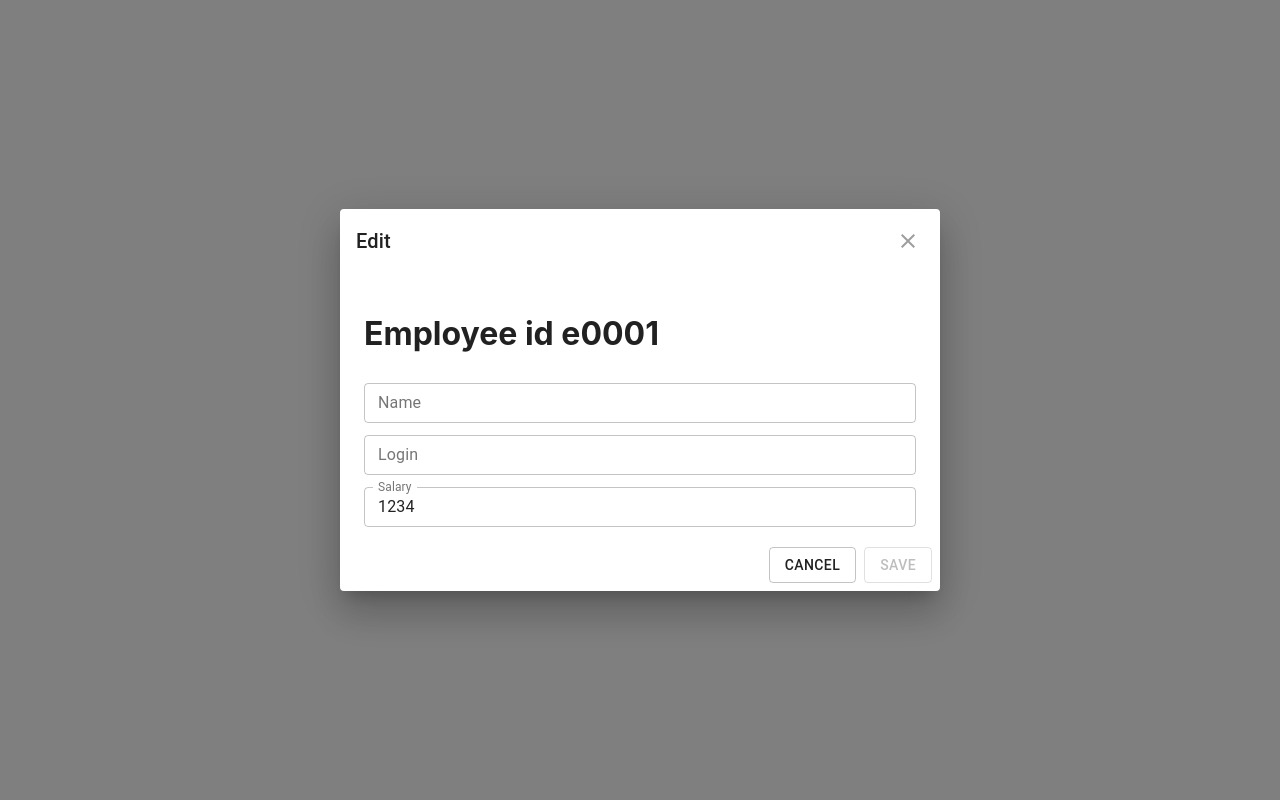
Test case: Employee Edit cancel all
Type "Ajay Arul" into the field with id "full_name" at (640, 403), box top-left (364, 383), bottom-right (916, 423)
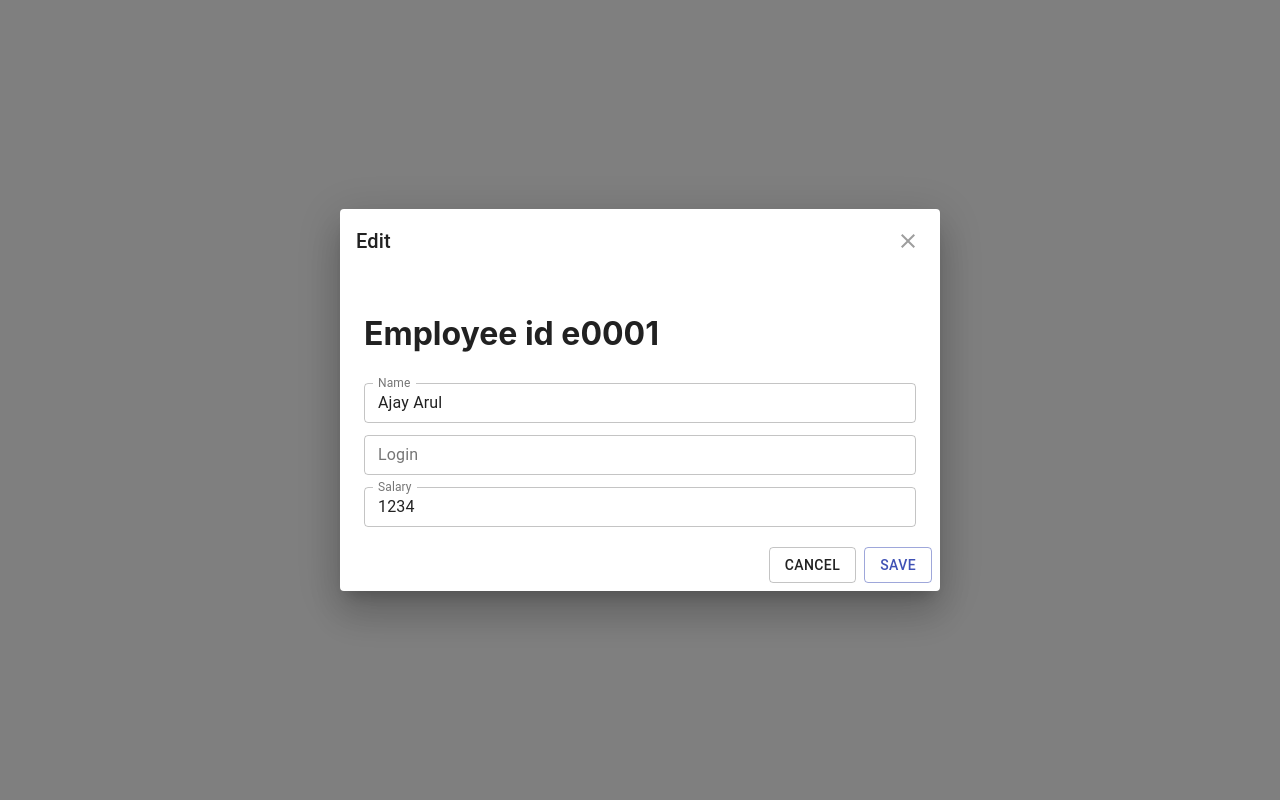
Type "Aj" into the field with id "login_id" at (640, 455), box top-left (364, 435), bottom-right (916, 475)
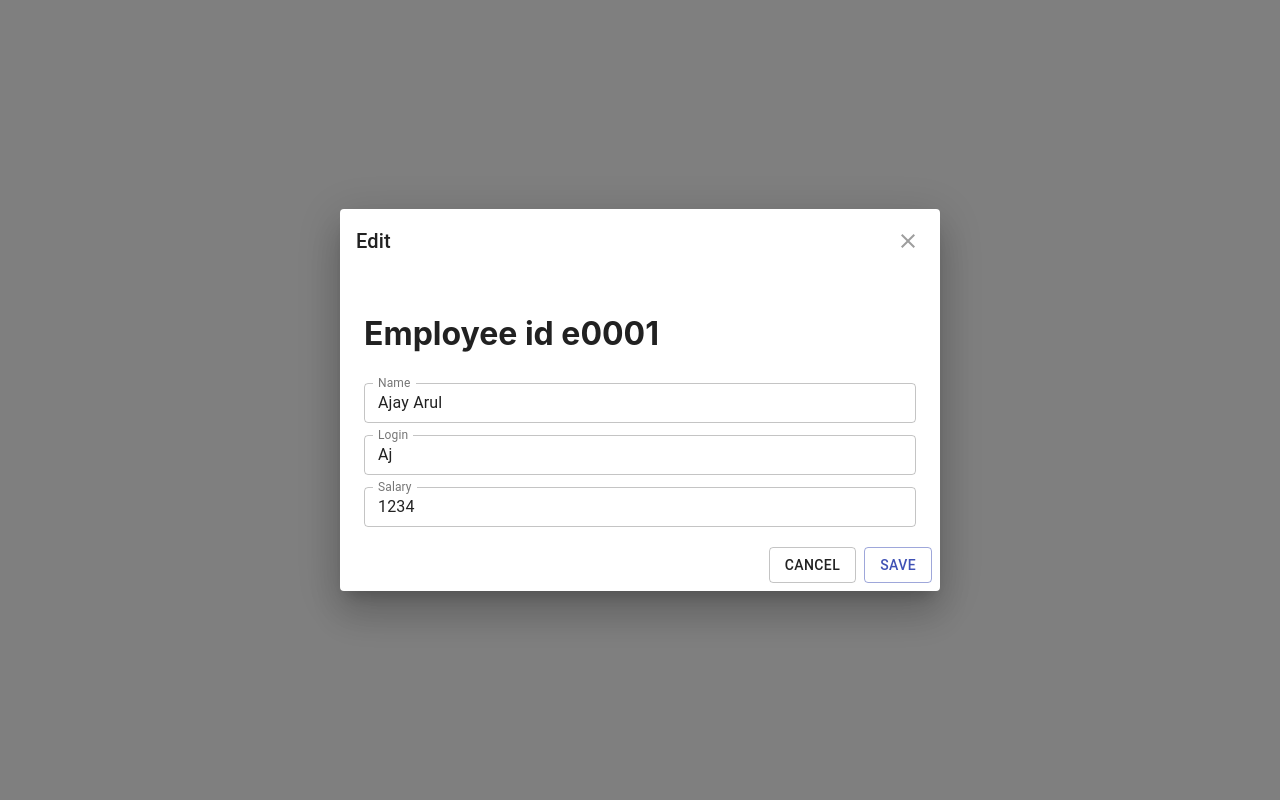
Replace the text in the number field with id "salary" with "800000" at (640, 507), box top-left (364, 487), bottom-right (916, 527)
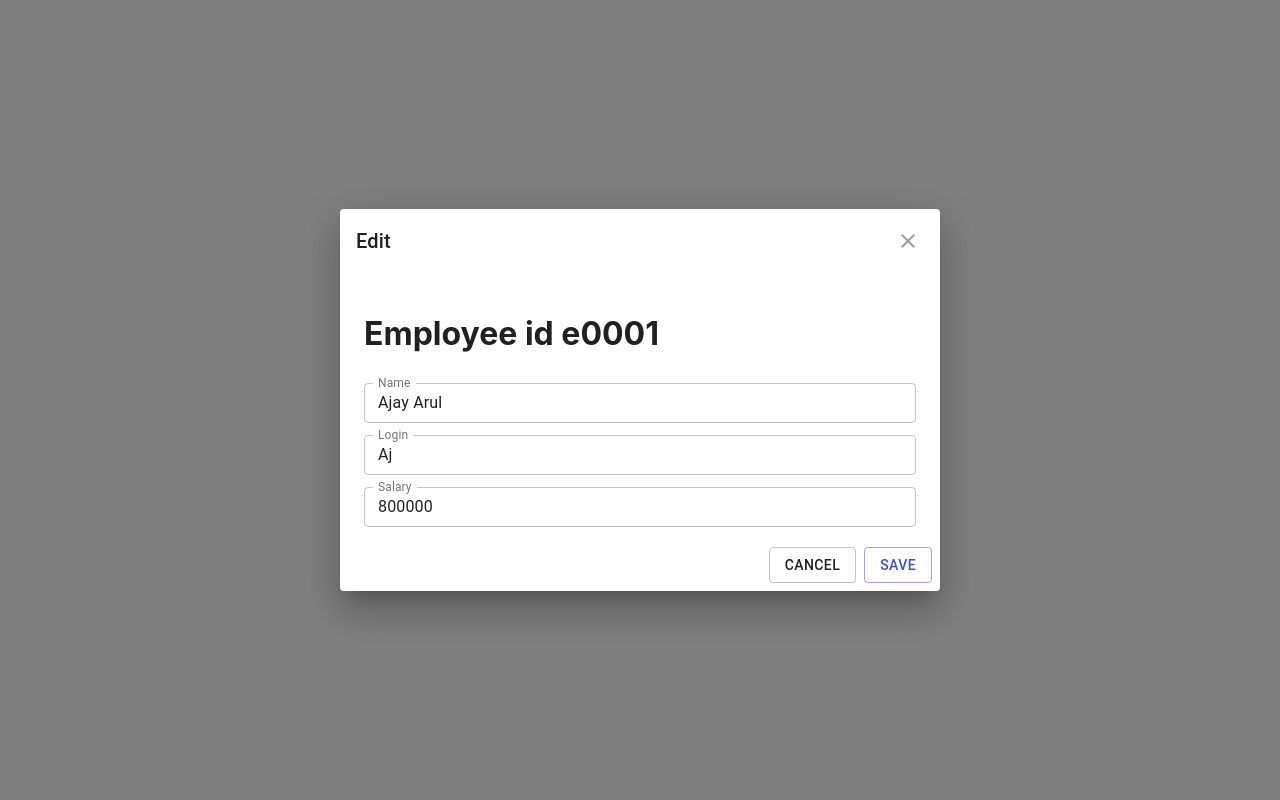
Click the button with test id "editCancelBtn" at (812, 565), box top-left (769, 547), bottom-right (856, 583)
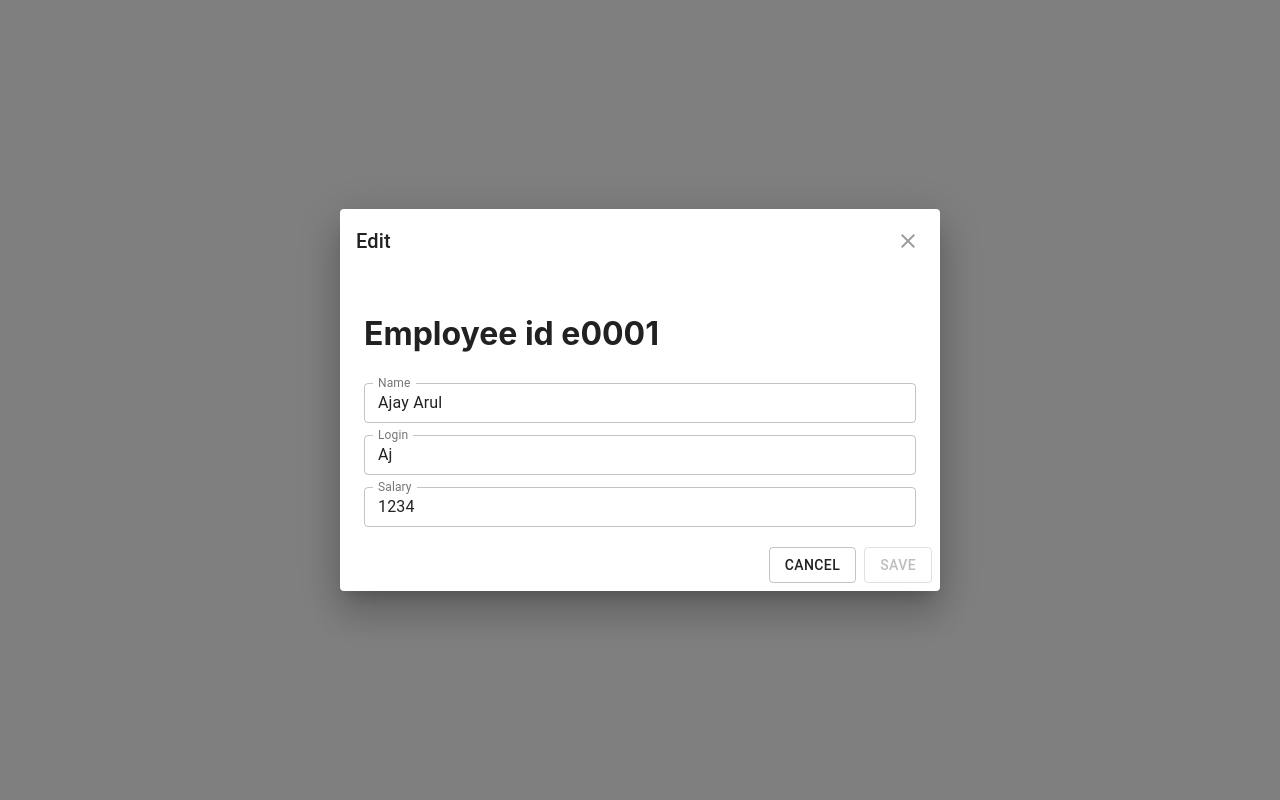
Expected: the number field with id "salary" holds "1234", top-left (364, 487), bottom-right (916, 527)
